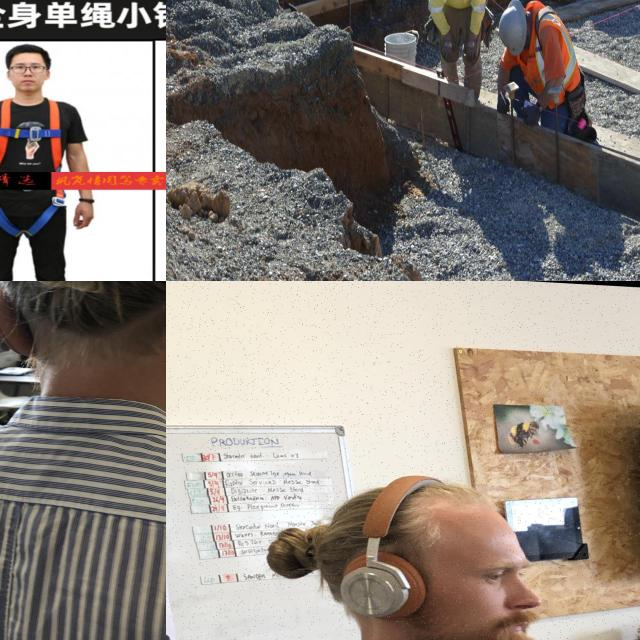Ear-protection: (0, 281, 166, 390), (309, 548, 447, 628)
Harness: (0, 98, 61, 237)
No_Glasses: (462, 554, 541, 594)
hand_glove: (440, 29, 458, 65), (464, 32, 481, 62)
head_helmet: (503, 6, 525, 59)
person: (498, 0, 593, 124), (428, 0, 487, 87)
vest: (526, 4, 580, 100), (429, 0, 483, 28)
